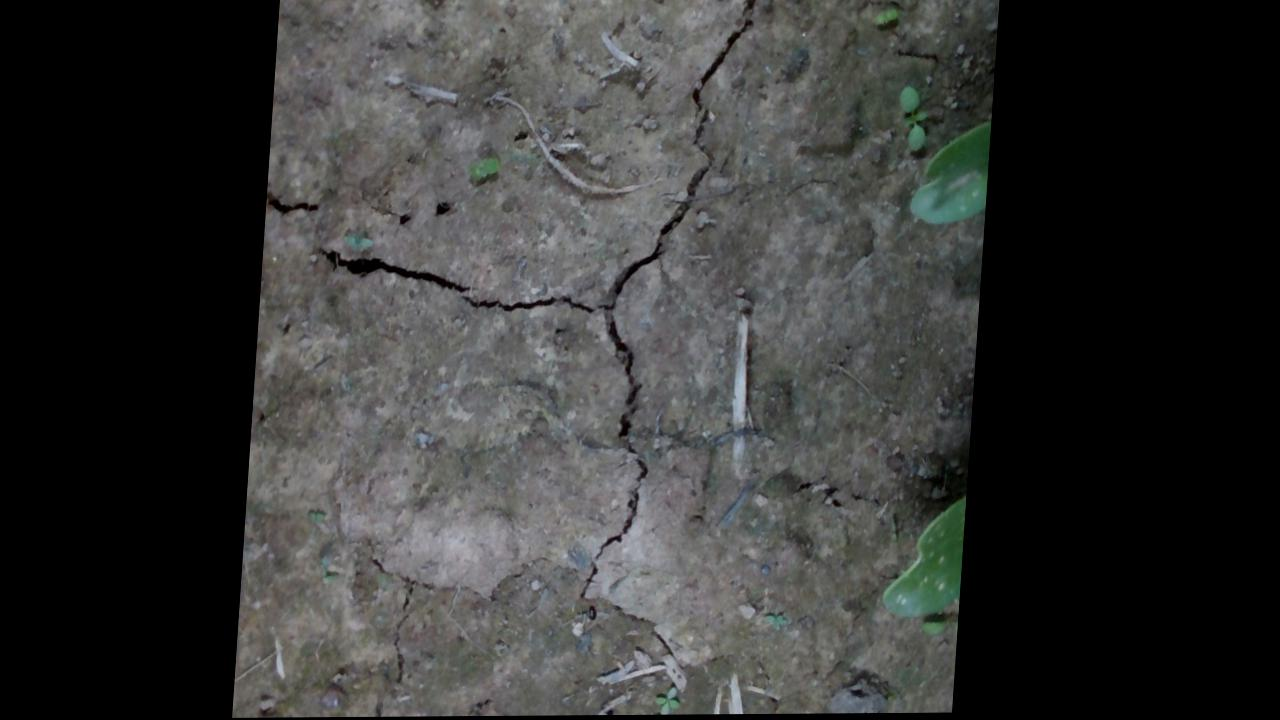weed: (897, 88, 929, 158), (660, 681, 694, 715)
